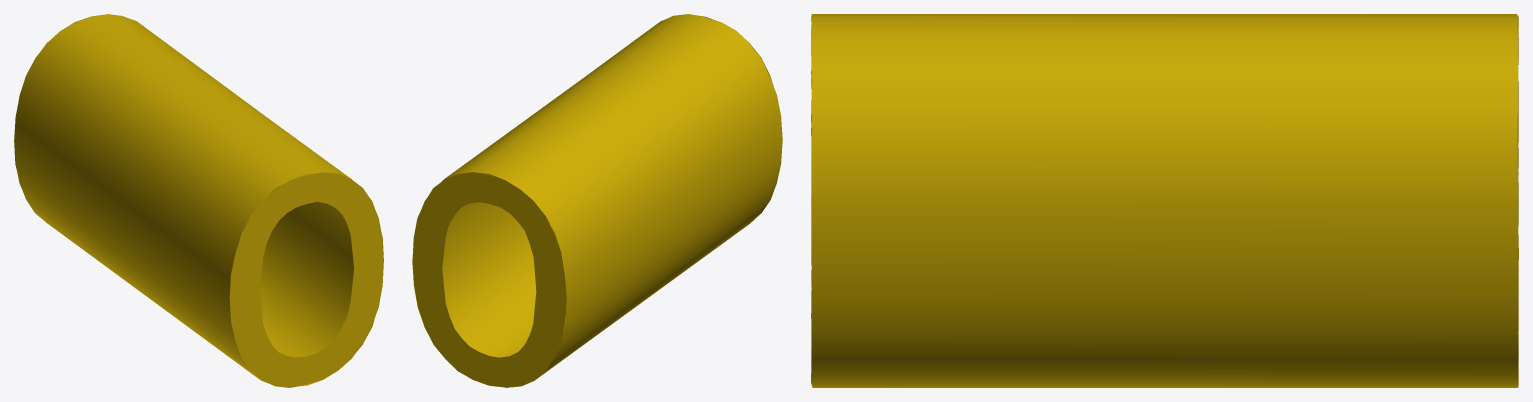
File: original-2.obj
The picture shows the model from 3 angles, left to right: view 1: azimuth 30°, elevation 25°; view 2: azimuth 150°, elevation 25°; view 3: azimuth 270°, elevation 25°; orthographic projection. The views are drawn at different scales.
Parts seen in each view (by area): view 1: #ID13; view 2: #ID13; view 3: #ID13.
Boxes of the visible parts, box(x1,y1,x2,y2) form: #ID13: box(14, 14, 383, 387); #ID13: box(412, 14, 782, 387); #ID13: box(811, 14, 1518, 387).
Bounding box in the file's own units: 0.032 × 0.0418 × 0.0774.
